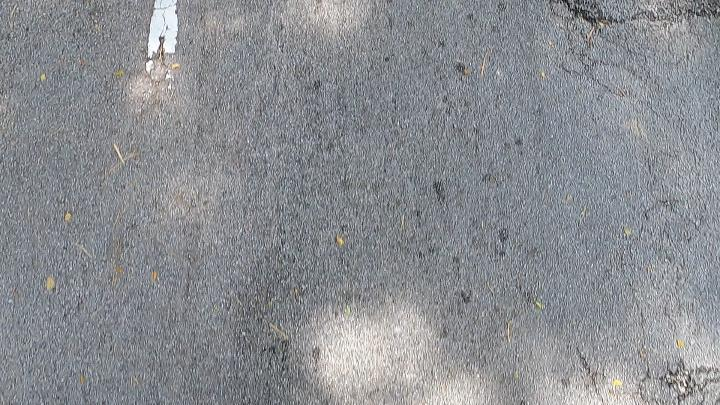Lane: (140, 0, 183, 64), (147, 0, 177, 58)
Pothole: (549, 0, 720, 46), (548, 0, 719, 41)
